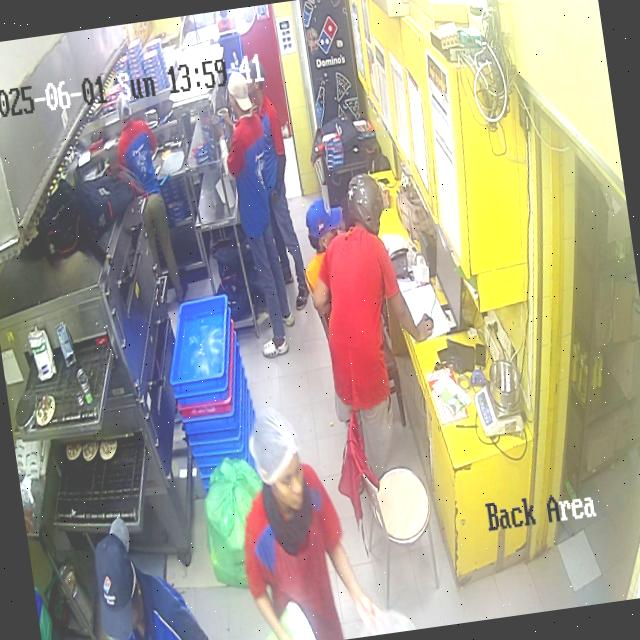helmet: (345, 172, 384, 234)
